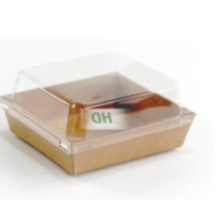plastic_box: (0, 43, 206, 181)
